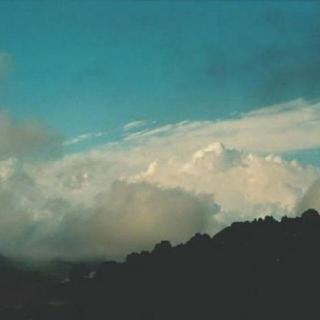Stratus: (0, 70, 320, 271)
